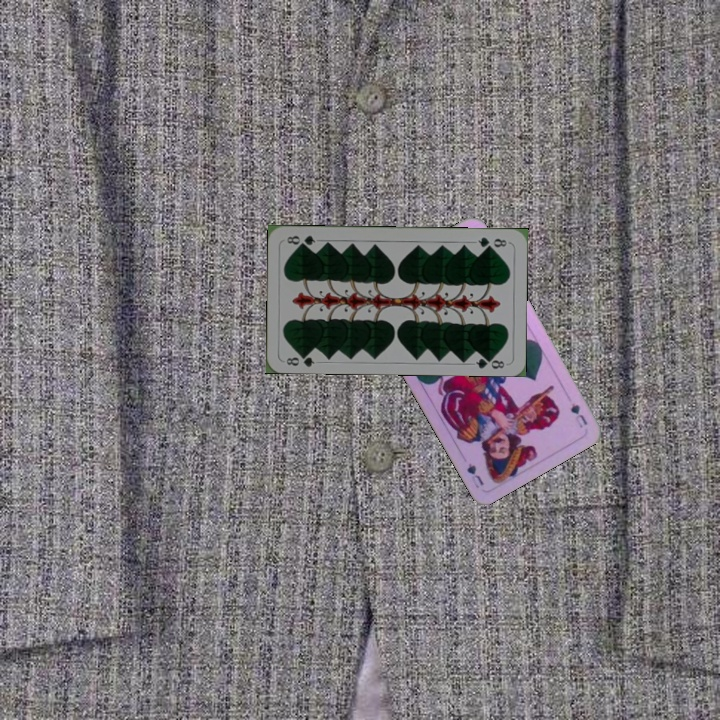G8: (282, 349, 317, 369), (474, 233, 511, 251)
GU: (566, 399, 590, 431)
